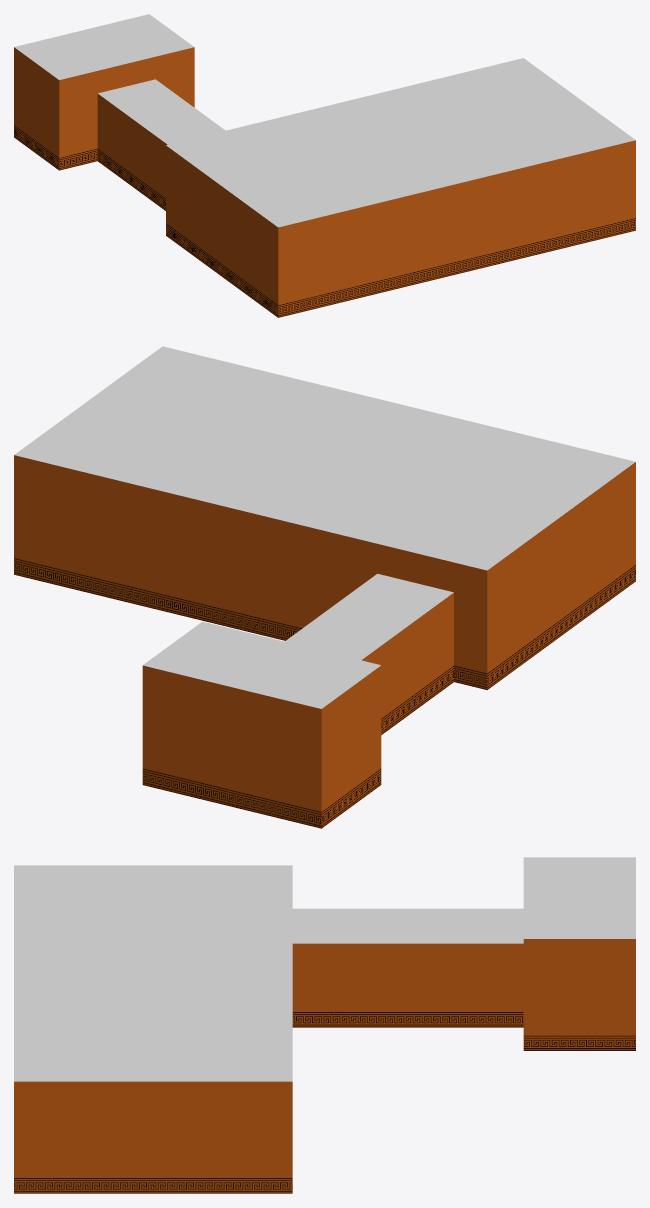
The model's file is Room1.fbx.
3 views of the same model, one above another, from view 1: azimuth 30°, elevation 25°; view 2: azimuth 150°, elevation 25°; view 3: azimuth 270°, elevation 25° (orthographic). The views are drawn at different scales.
Visible parts, largest first — view 1: Plane.002, Plane.001, Circle.021; view 2: Plane.002, Plane.001, Circle.021; view 3: Plane.001, Plane.002, Circle.021.
Boxes of the visible parts, x1=… form: Plane.002: x1=14, y1=47, x2=635, y2=317; Plane.001: x1=14, y1=14, x2=635, y2=227; Circle.021: x1=171, y1=60, x2=629, y2=224; Plane.002: x1=14, y1=455, x2=635, y2=828; Plane.001: x1=14, y1=346, x2=635, y2=708; Circle.021: x1=22, y1=349, x2=627, y2=567; Plane.001: x1=14, y1=857, x2=635, y2=1081; Plane.002: x1=14, y1=939, x2=635, y2=1193; Circle.021: x1=14, y1=866, x2=291, y2=1080.
Size of the model in its own units: 2660 by 619 by 3116.
